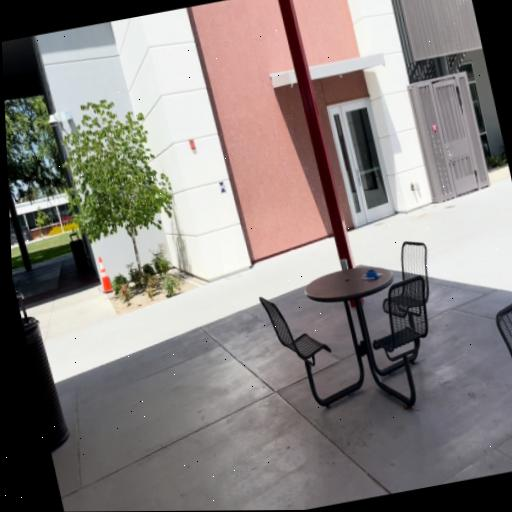target9: (218, 181, 226, 192)
